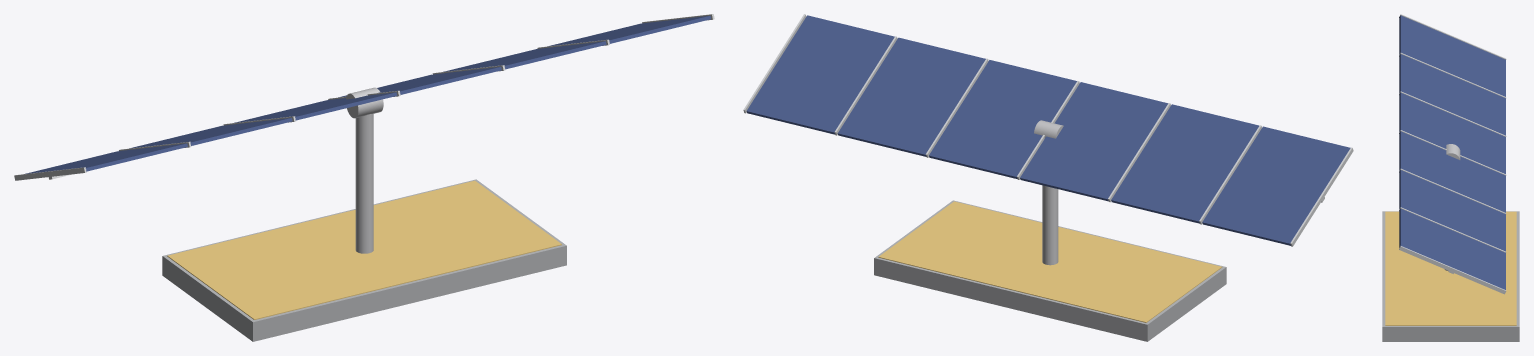
The model's file is rover28_solar_mount_m_deployed.glb.
3 views of the same model, side by side, from view 1: azimuth 30°, elevation 25°; view 2: azimuth 150°, elevation 25°; view 3: azimuth 270°, elevation 25° (orthographic). The views are drawn at different scales.
Parts seen in each view (by area): view 1: base_foil, base, panel_wing, mast, panel_frames; view 2: panel_wing, base_foil, base, panel_frames, mast; view 3: panel_wing, base_foil, base, panel_frames, mast.
Part boxes in pixels (x1,y1,x2,y2): base_foil: (167, 180, 561, 319); base: (162, 179, 566, 341); panel_wing: (25, 16, 710, 173); mast: (346, 87, 383, 253); panel_frames: (14, 14, 714, 180); panel_wing: (746, 15, 1350, 245); base_foil: (878, 201, 1222, 322); base: (874, 200, 1226, 341); panel_frames: (743, 14, 1353, 246); mast: (1034, 120, 1063, 265); panel_wing: (1399, 15, 1505, 289); base_foil: (1385, 211, 1516, 325); base: (1382, 211, 1519, 341); panel_frames: (1399, 14, 1506, 294); mast: (1444, 144, 1460, 270).
Size of the model in its own units: 4.01 by 1.24 by 1.
